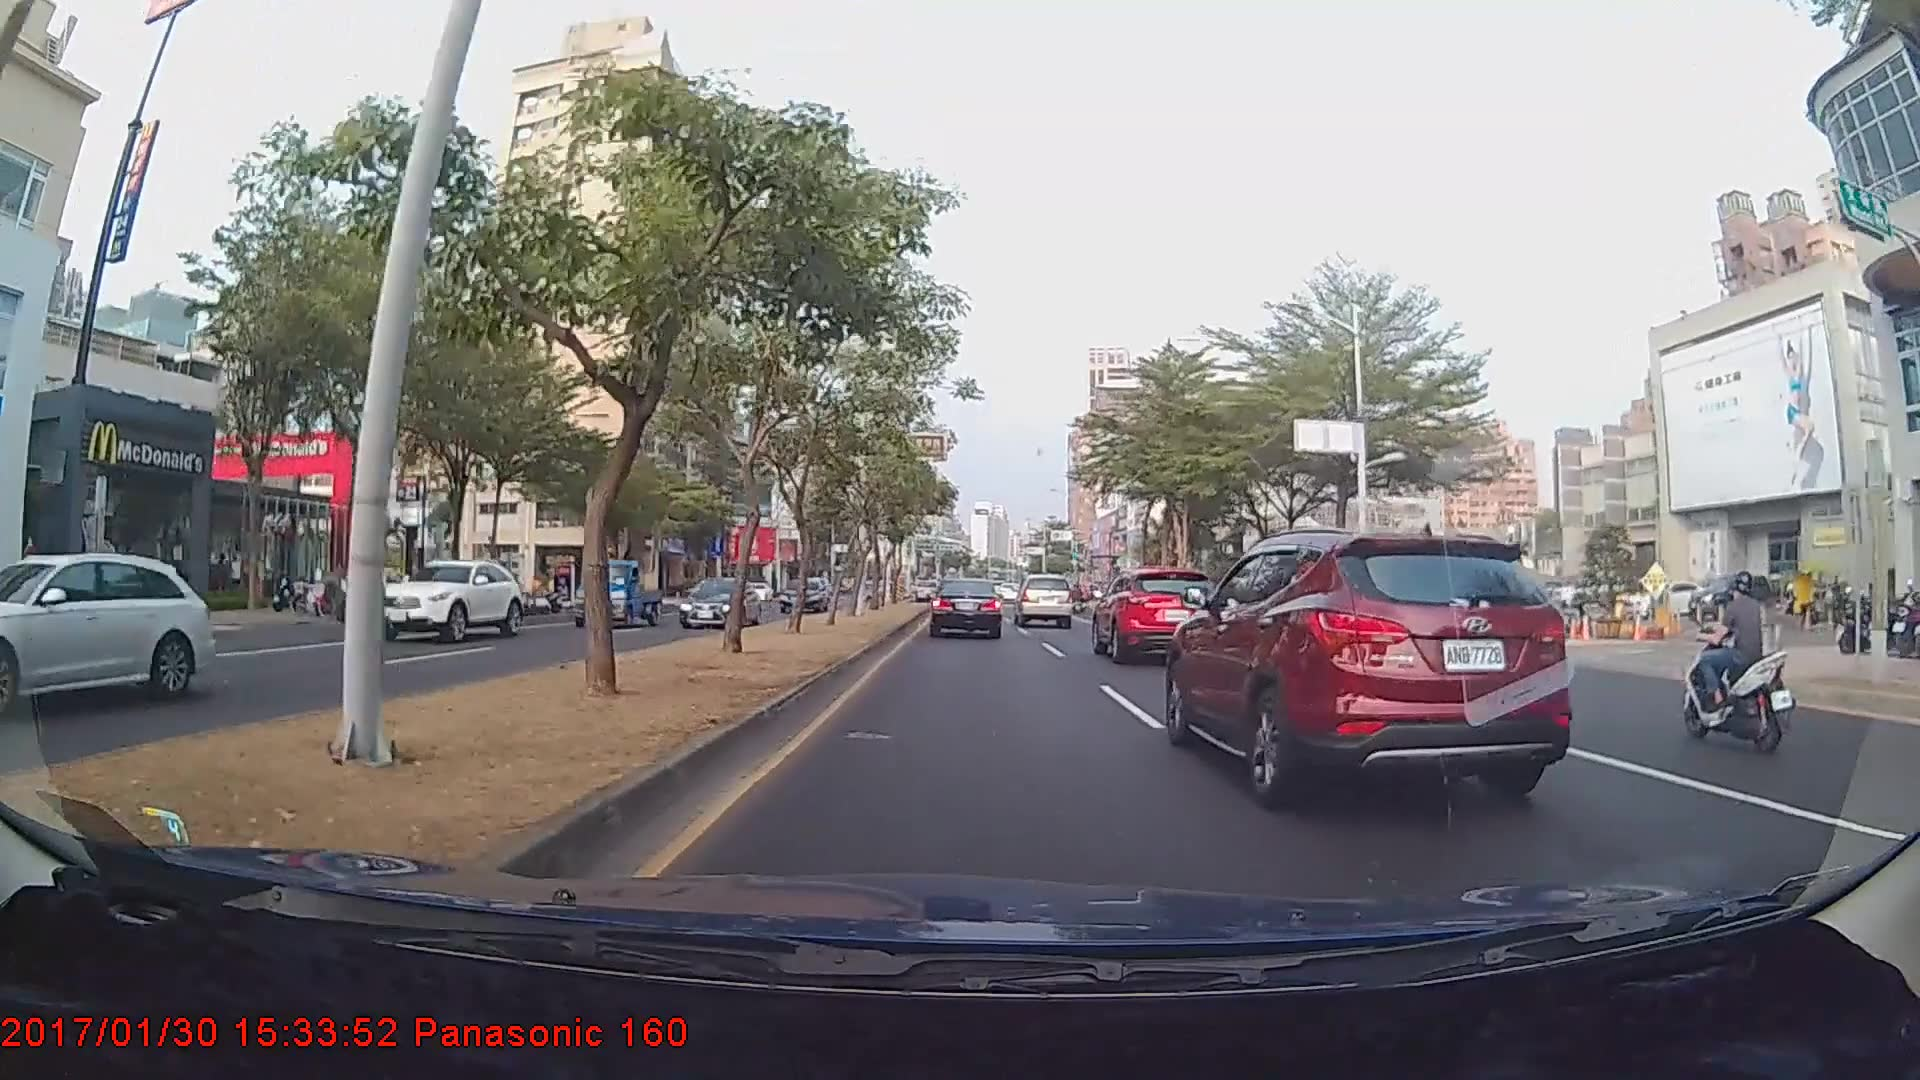rider: (1678, 566, 1800, 758)
vehicle: (1172, 529, 1566, 794), (0, 550, 210, 719), (366, 557, 526, 641), (1089, 564, 1217, 664), (574, 558, 667, 628), (678, 574, 759, 630), (930, 577, 1003, 639), (1013, 573, 1074, 629), (780, 574, 828, 613)
